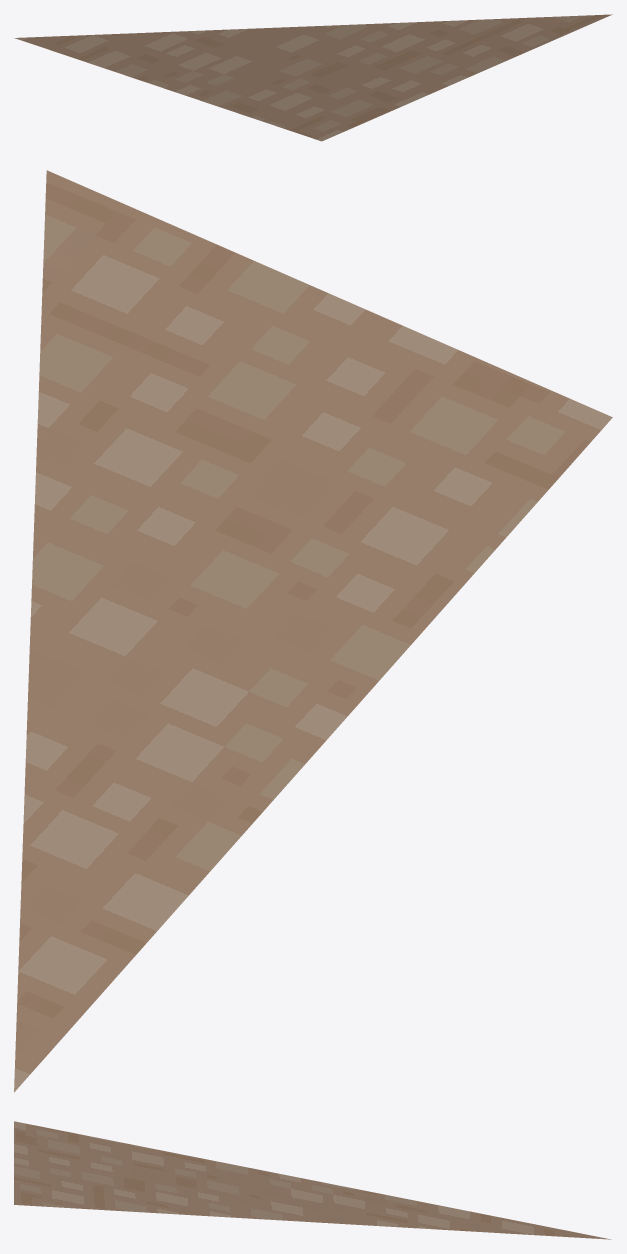
Rendered from kd_stage_135fe0_4_36_bounded.glb.
3 views of the same model, one above another, from view 1: azimuth 30°, elevation 25°; view 2: azimuth 150°, elevation 25°; view 3: azimuth 270°, elevation 25° (orthographic). The views are drawn at different scales.
Visible parts, largest first — view 1: kd_stage_135fe0_4_36_bounded; view 2: kd_stage_135fe0_4_36_bounded; view 3: kd_stage_135fe0_4_36_bounded.
Boxes of the visible parts, bbox=[...] form: kd_stage_135fe0_4_36_bounded: bbox=[14, 14, 612, 141]; kd_stage_135fe0_4_36_bounded: bbox=[14, 170, 612, 1092]; kd_stage_135fe0_4_36_bounded: bbox=[14, 1121, 611, 1239].
Size of the model in its own units: 1.08 by 0.6328 by 1.99.
Materials: 1 (1 with a texture image).
